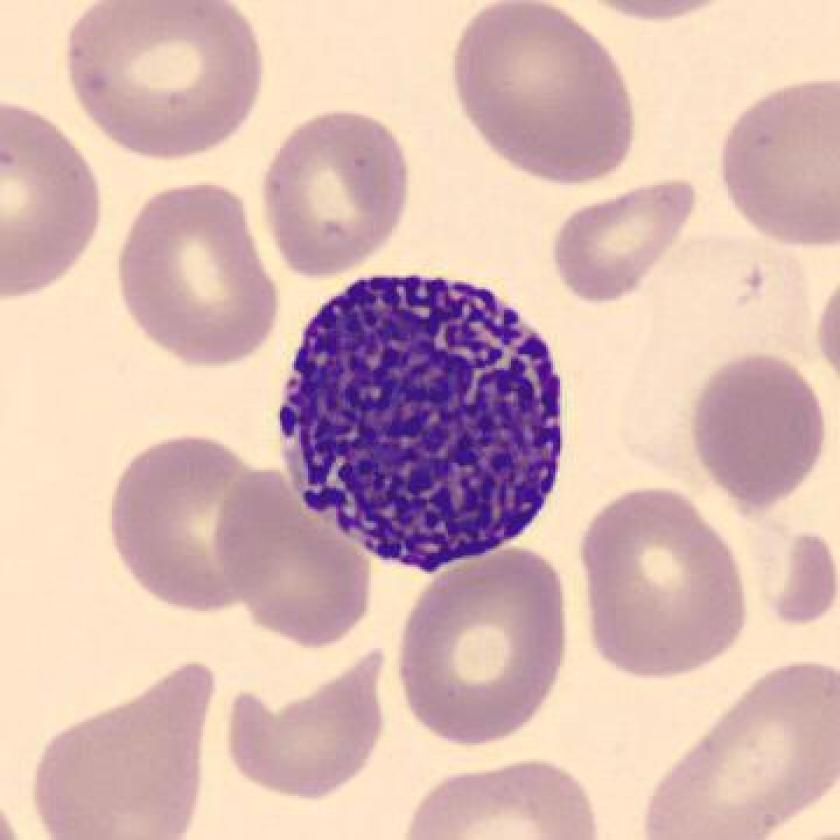basophil: (267, 265, 580, 577)
